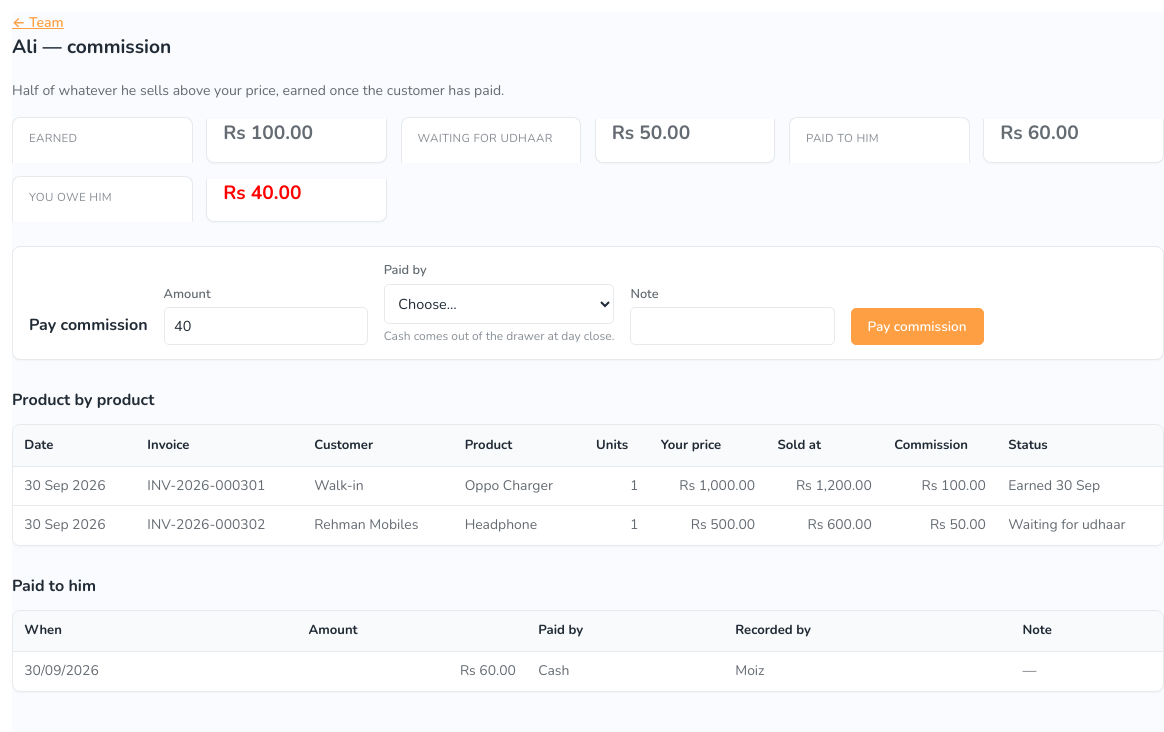
Commission › will not pay until it says how
Check: the text "Rs 40.00" is shown, box [206,179,387,222]
Click the button "Pay commission".
click(917, 326)  # box [851,308,984,345]
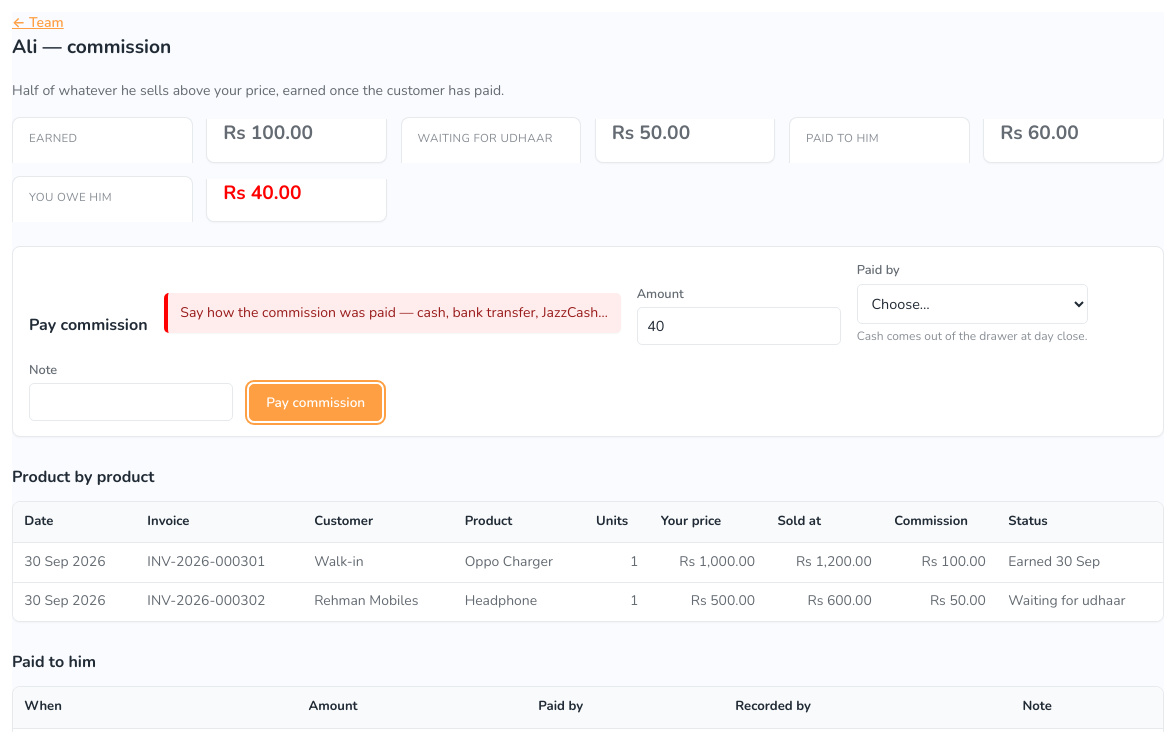
Check: the message shows "how", box [180,303,608,322]
